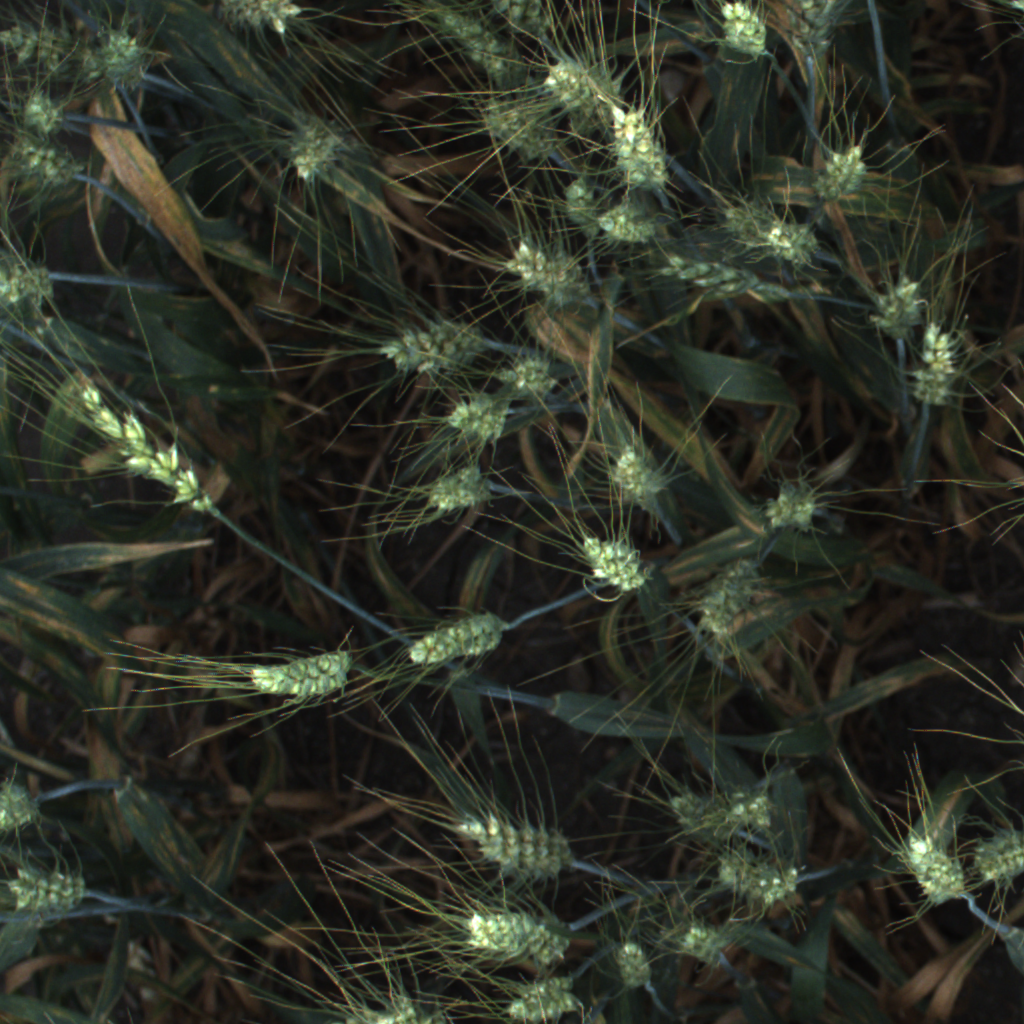wheat_head: (72, 369, 221, 523), (441, 798, 586, 885), (222, 633, 369, 712), (448, 892, 586, 968), (421, 0, 533, 90), (367, 309, 503, 378), (599, 95, 685, 204), (689, 546, 772, 647), (538, 52, 638, 134), (0, 849, 99, 931), (499, 230, 598, 309), (466, 94, 566, 171), (562, 527, 667, 600), (408, 603, 511, 677), (898, 819, 974, 914), (81, 12, 170, 93), (705, 844, 811, 912), (665, 255, 798, 309), (407, 457, 513, 524), (0, 13, 109, 77), (861, 258, 933, 354), (751, 464, 834, 544), (905, 307, 964, 416), (806, 128, 878, 217), (597, 435, 686, 507), (437, 385, 524, 451), (284, 108, 360, 182), (781, 0, 852, 79), (660, 784, 754, 843), (697, 0, 780, 66), (0, 136, 93, 193), (738, 206, 830, 262), (960, 818, 1024, 898), (195, 0, 315, 41), (324, 986, 450, 1024), (495, 344, 564, 410), (595, 192, 671, 249), (725, 776, 784, 844), (599, 934, 661, 997), (9, 82, 73, 143), (0, 253, 60, 314), (496, 986, 591, 1024), (675, 912, 733, 972), (499, 0, 565, 44), (491, 970, 585, 1000), (1, 781, 48, 836)
